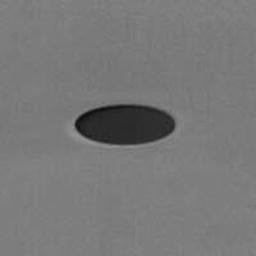Punching: (73, 102, 178, 146)
